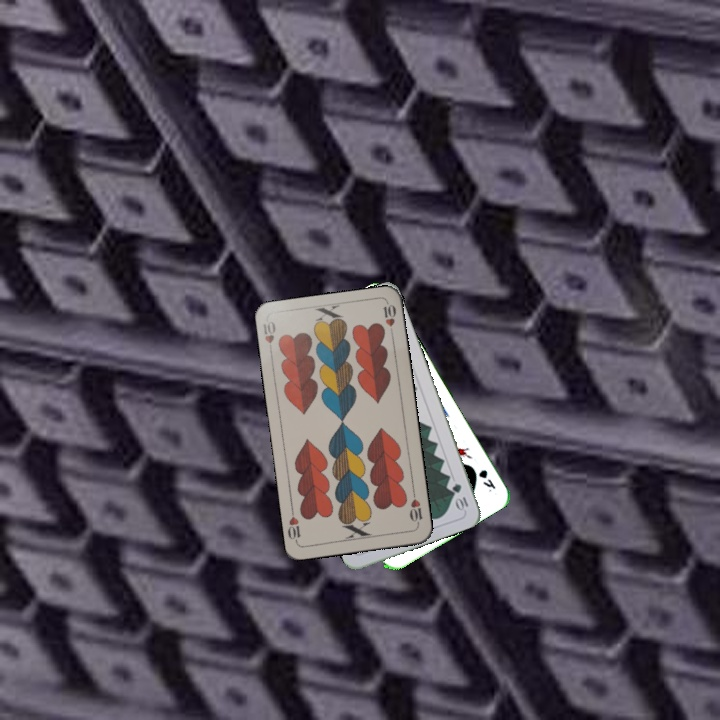G10: (448, 479, 471, 513)
GK: (474, 465, 498, 495)
H10: (405, 487, 425, 528), (259, 317, 278, 357)
